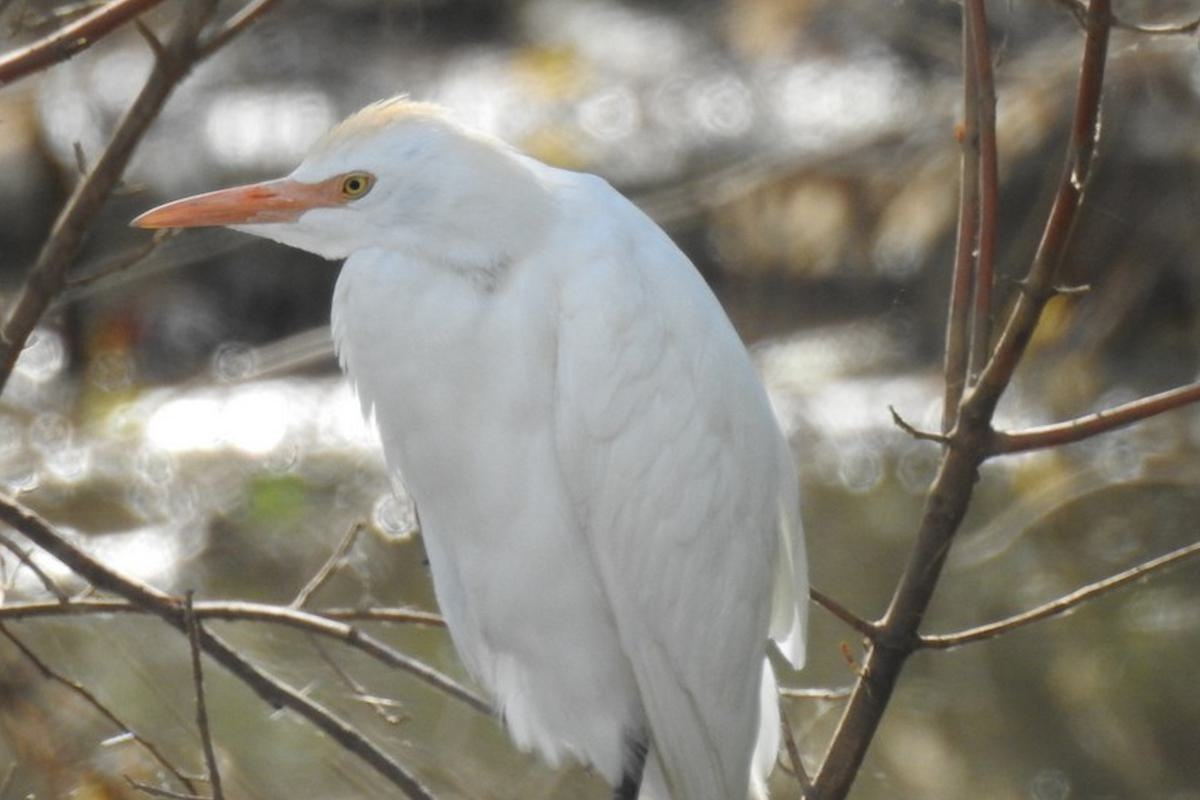egret: (127, 89, 843, 787)
